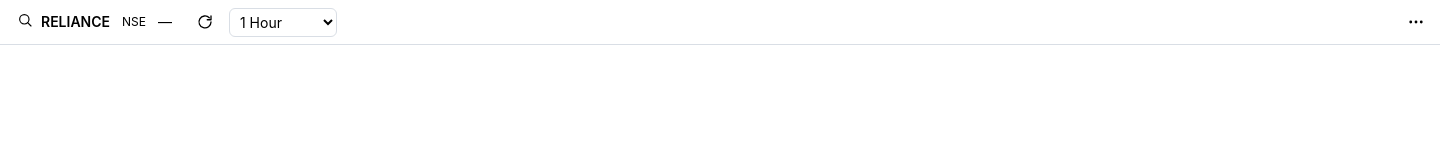
Test: ChartHeader › FR-CHART-017: ⋯ menu offers "Open in full view"
Click the button named "More chart actions" at (1416, 22), box [1400,6,1432,38]
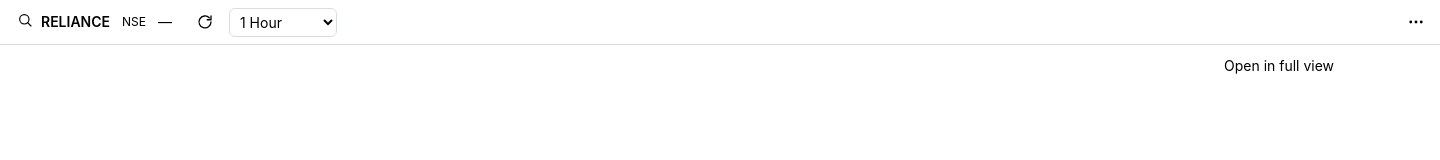
Click the menu item "Open in full view" at (1322, 66), box [1212,48,1432,84]
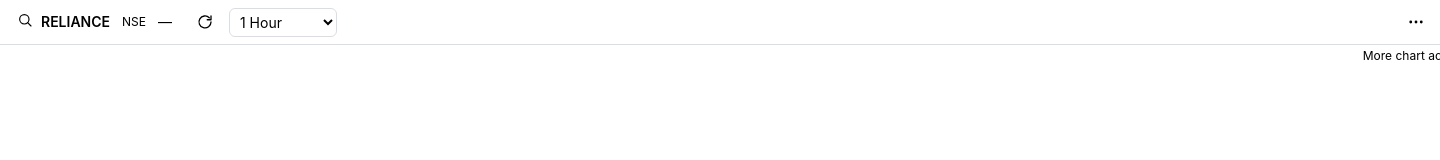
Now the menu is gone
